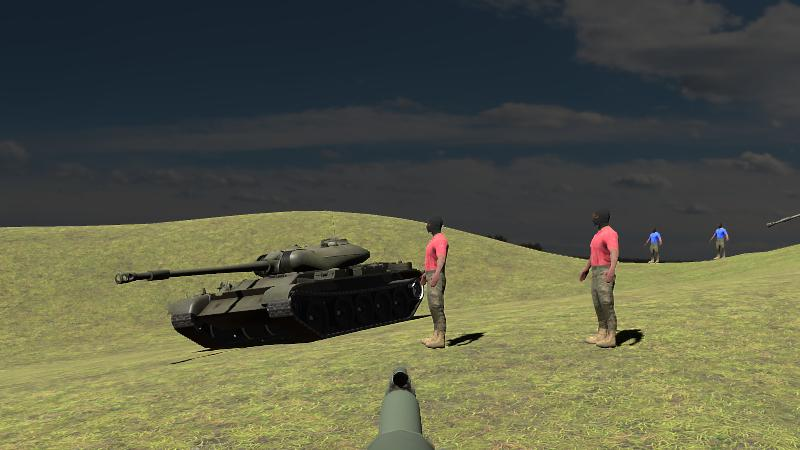Human: (579, 208, 619, 348), (420, 214, 448, 349)
Tank: (114, 238, 424, 350), (766, 190, 800, 274)
